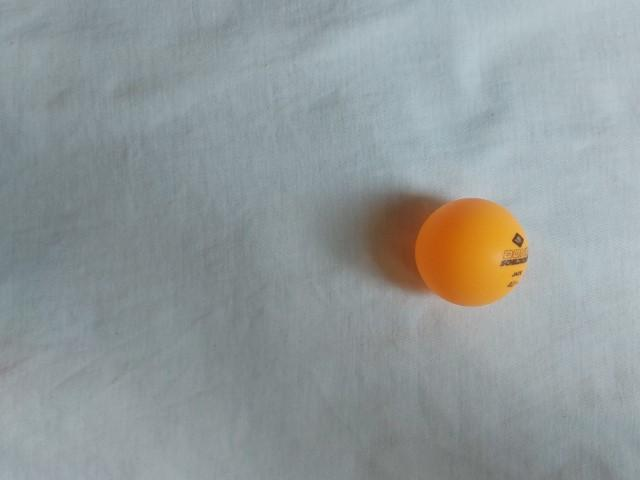oball: (407, 194, 533, 315)
